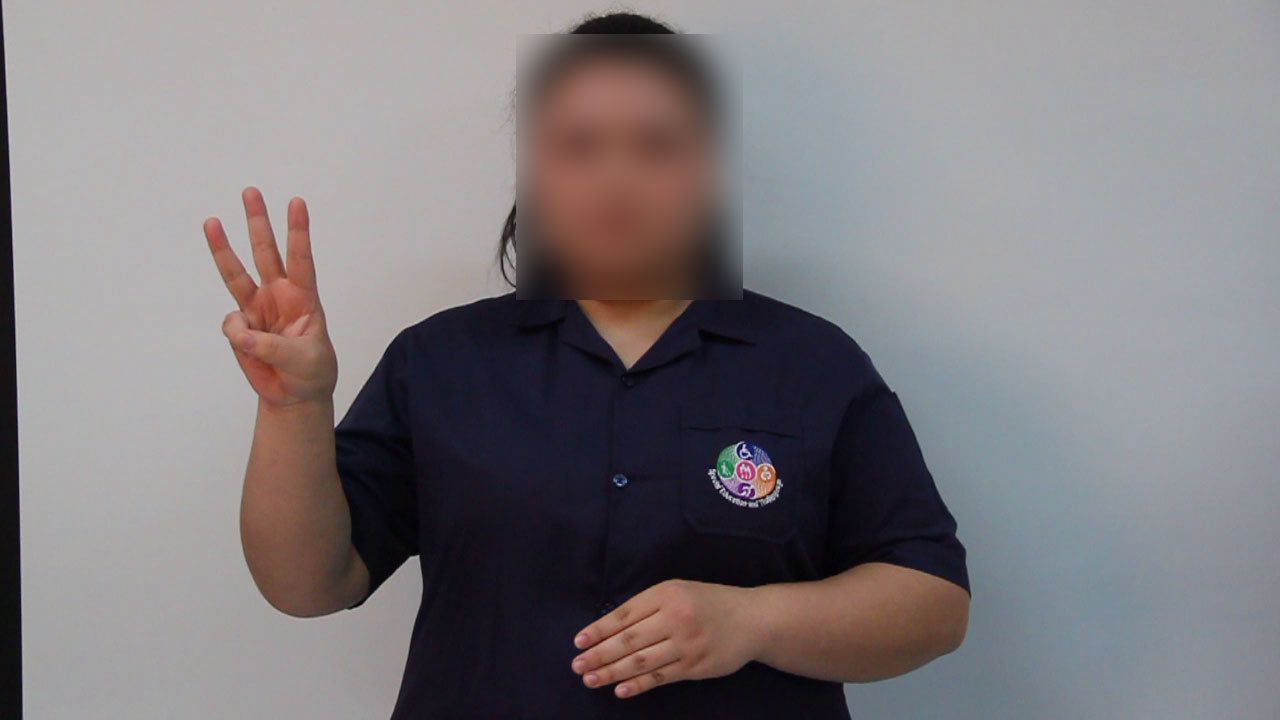wor: (192, 178, 341, 419)
